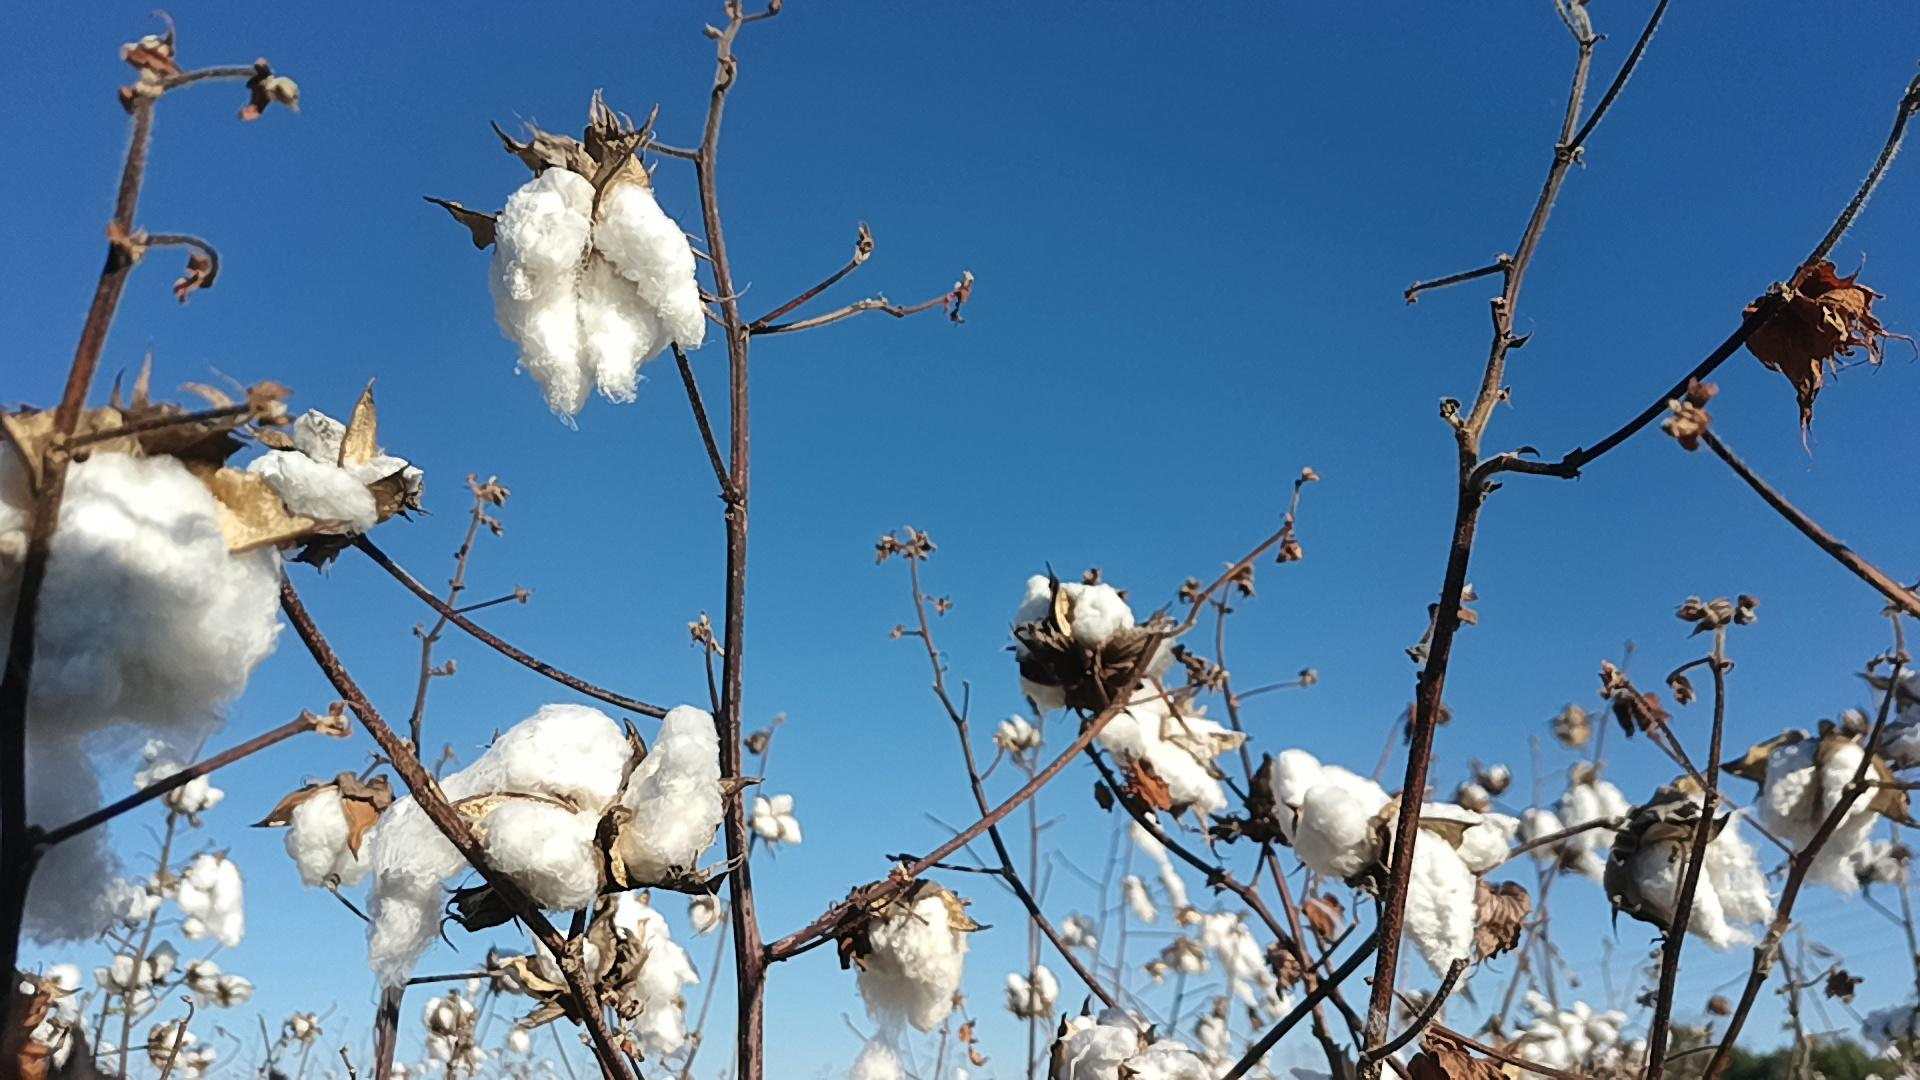cotton_ready: (0, 451, 286, 943), (364, 705, 720, 993), (493, 169, 711, 426), (530, 899, 695, 1063), (1386, 800, 1510, 996), (1630, 800, 1776, 951), (248, 407, 421, 530), (1758, 738, 1886, 895), (1269, 745, 1402, 885), (1100, 679, 1228, 815), (1018, 575, 1135, 715), (853, 886, 960, 1036), (290, 789, 382, 890), (1068, 1015, 1209, 1080)
